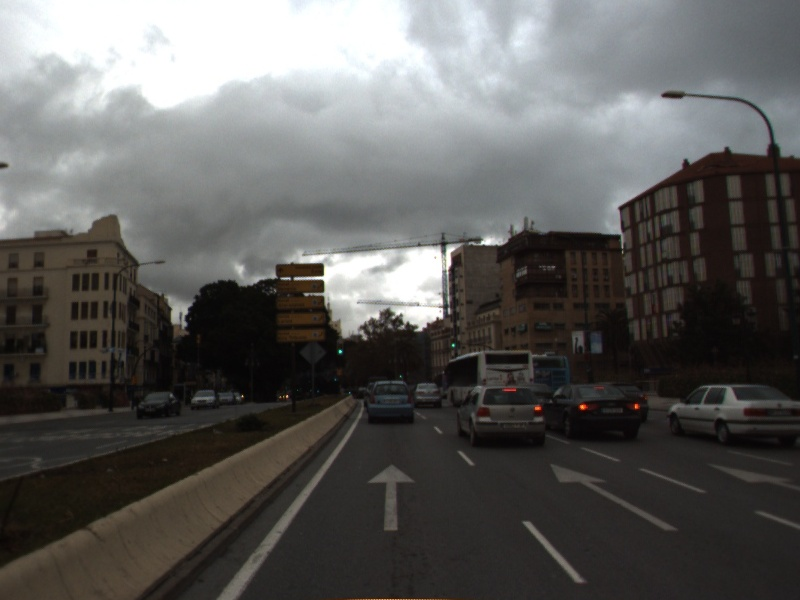STRAIGHT: (547, 461, 681, 533), (365, 461, 419, 533), (705, 461, 800, 492)
